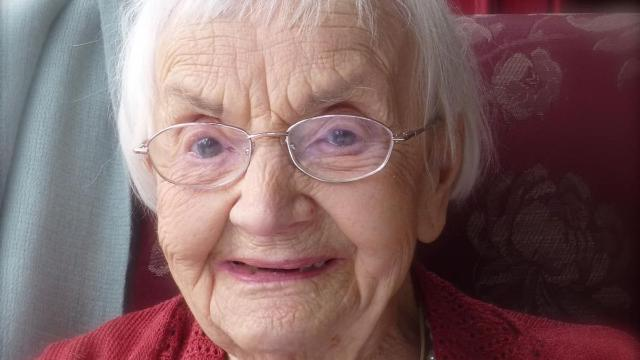bunny_line: (257, 160, 273, 187)
chin: (265, 306, 291, 328)
forehead: (178, 37, 235, 75), (309, 44, 387, 70), (322, 17, 374, 37)
frown_line: (243, 87, 283, 125)
gummy_smile: (310, 192, 360, 244), (206, 200, 230, 253)
masseter: (396, 232, 412, 274), (160, 236, 178, 264)
sad_smile: (194, 261, 222, 311), (346, 270, 369, 312)
smoker_lines: (243, 235, 305, 257)
